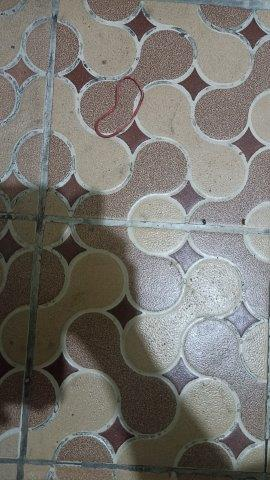karet: (94, 77, 145, 138)
